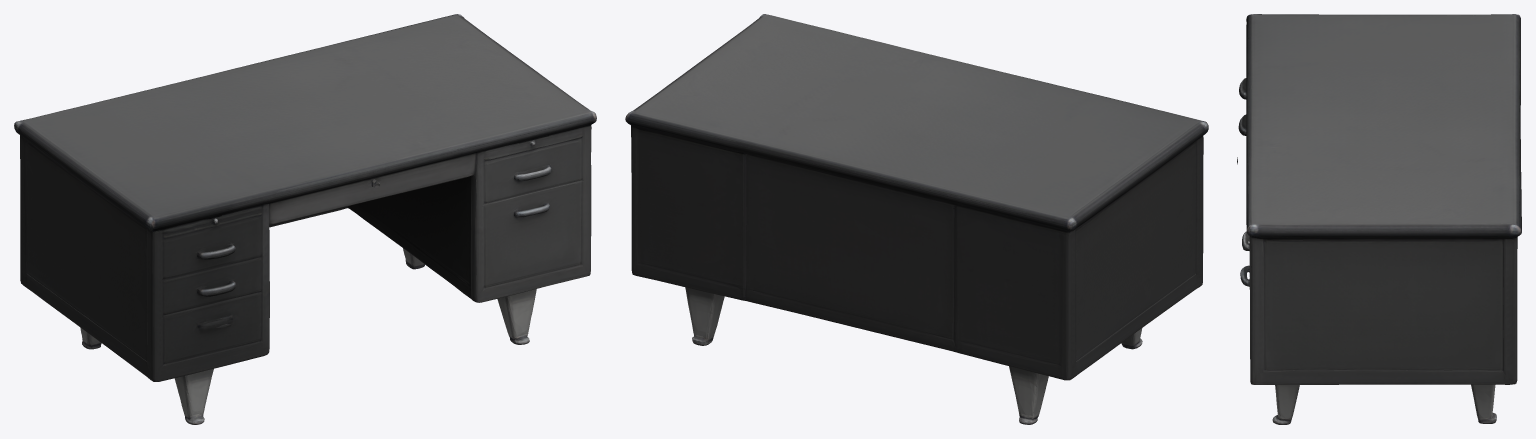
The picture shows the model from 3 angles, left to right: view 1: azimuth 30°, elevation 25°; view 2: azimuth 150°, elevation 25°; view 3: azimuth 270°, elevation 25°; orthographic projection.
Visible parts, largest first — view 1: world; view 2: world; view 3: world.
Part boxes in pixels (box(x1,y1,x2,y2)): world: box(14, 14, 596, 424); world: box(625, 14, 1208, 424); world: box(1237, 14, 1521, 424).
Size of the model in its own units: 0.9994 by 0.4868 by 0.559.
1 material, 1 textured.
